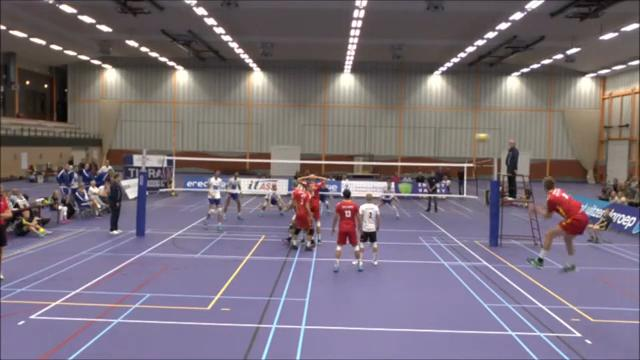Player: (332, 190, 362, 271), (299, 174, 326, 243), (359, 193, 379, 264), (291, 189, 313, 250), (285, 180, 305, 242), (204, 171, 224, 230), (223, 172, 242, 219), (378, 180, 399, 218), (259, 184, 283, 216), (319, 183, 330, 215), (341, 175, 350, 189)
Serve: (519, 174, 591, 277)
ball: (475, 132, 490, 144)
